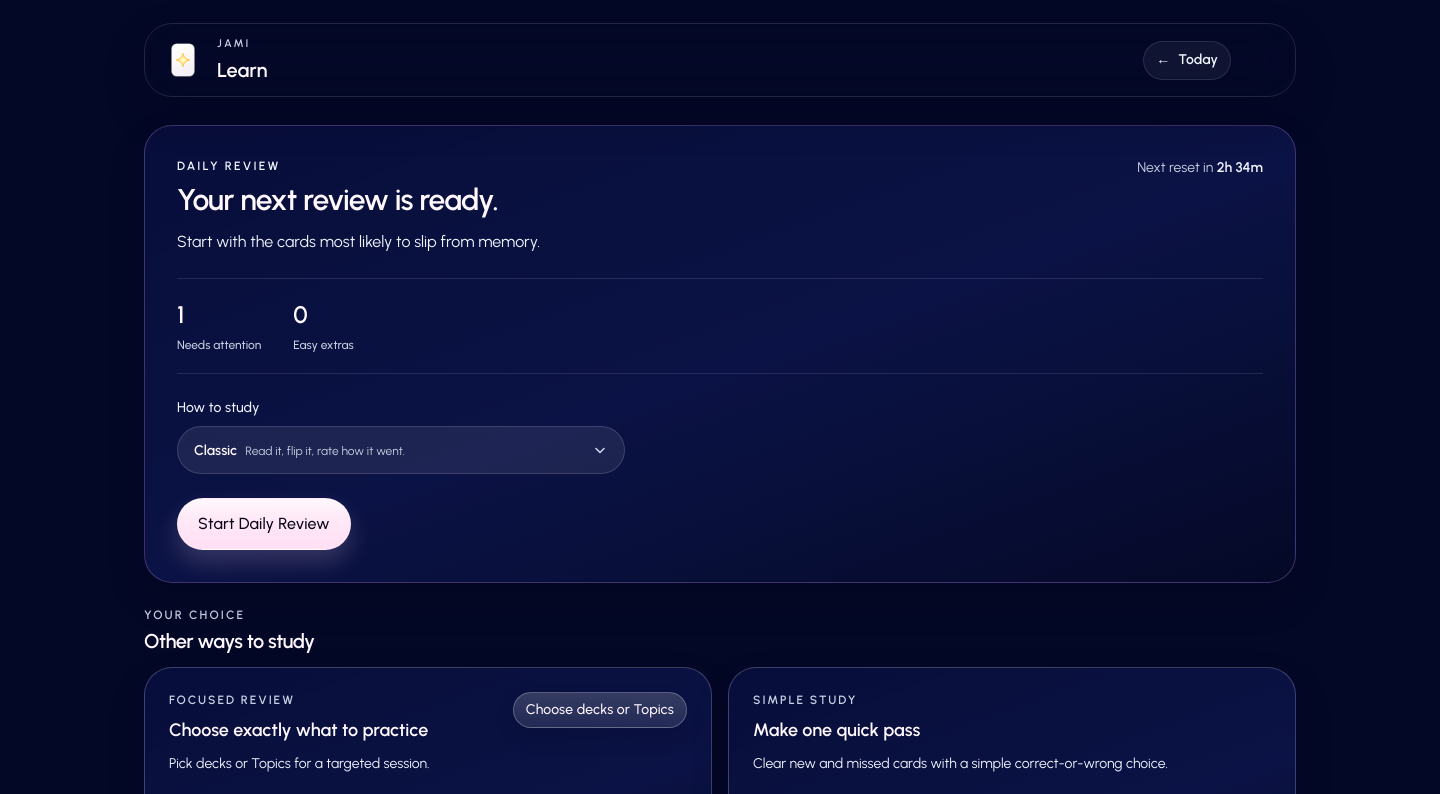
Test case: the first look, drawn from this device's cards › shows Learn before the server's cards land, and starts on the server's once they do
This screenshot has width=1440, height=794.
Click the button "Start Daily Review". click: (264, 524)
box: [177,498,351,550]
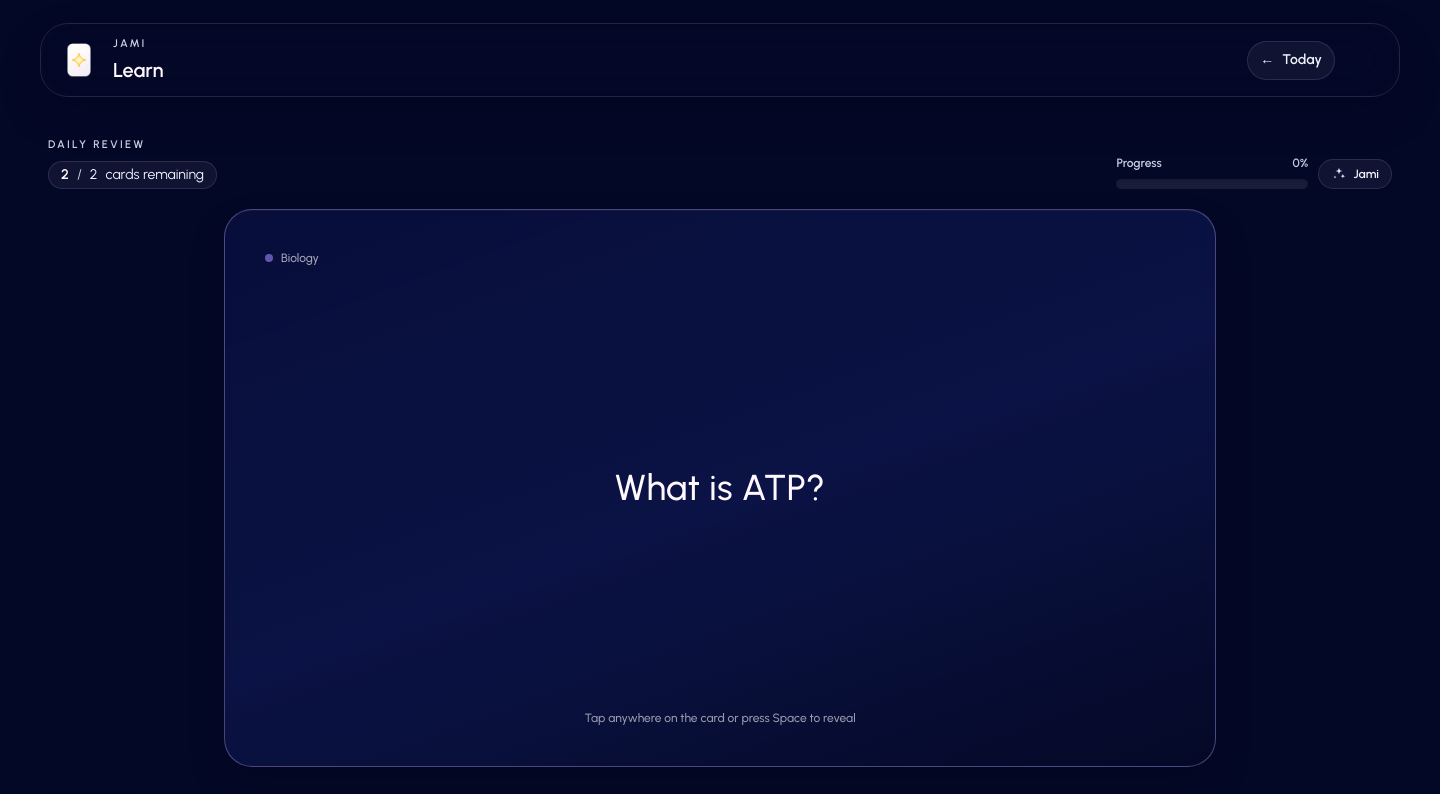
Expected: the text "2 / 2 cards remaining" is shown, [48,161,217,189]
